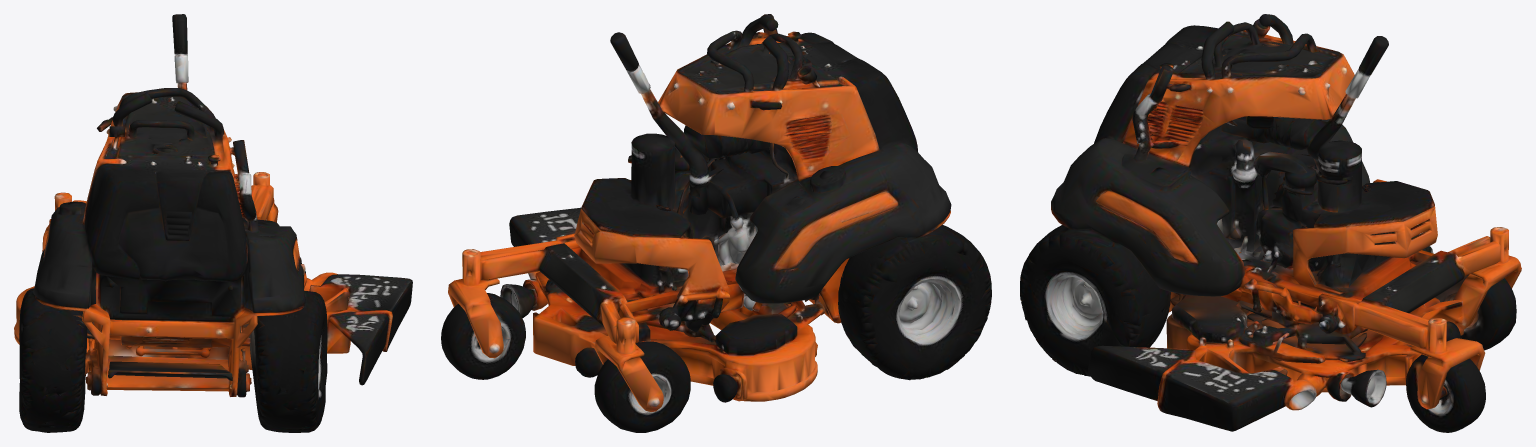
File: mower-v500.glb
3 views of the same model, side by side, from view 1: azimuth 30°, elevation 25°; view 2: azimuth 150°, elevation 25°; view 3: azimuth 270°, elevation 25° (orthographic). The views are drawn at different scales.
Visible parts, largest first — view 1: material; view 2: material; view 3: material.
Part boxes in pixels (box(x1,y1,x2,y2)): material: box(14, 14, 412, 432); material: box(441, 14, 991, 432); material: box(1020, 14, 1521, 432).
Size of the model in its own units: 0.9638 by 0.6994 by 0.9276.
1 material, 1 textured.
